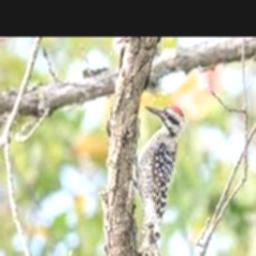Woodpecker: (133, 105, 185, 256)
